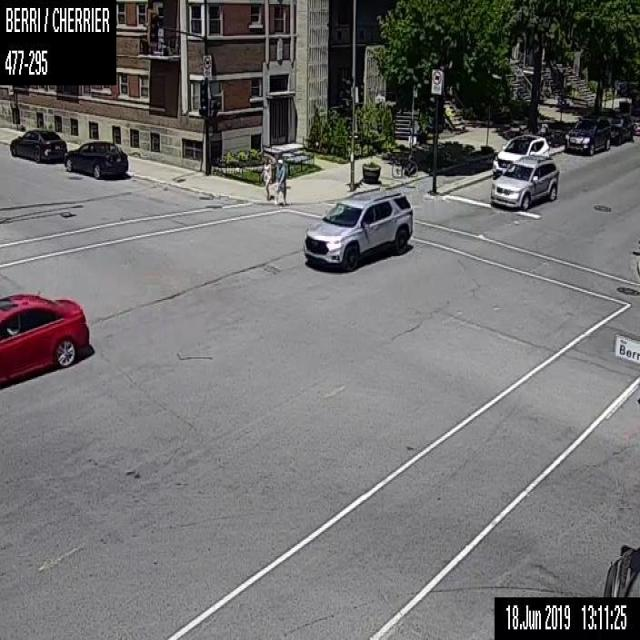pedestrian: (273, 157, 286, 205), (260, 156, 271, 201)
vehicle: (303, 188, 412, 270), (0, 291, 90, 384), (490, 153, 559, 209), (64, 140, 128, 178), (601, 541, 639, 596), (8, 127, 67, 162), (564, 117, 609, 154), (494, 134, 548, 162), (609, 115, 632, 145), (632, 115, 639, 134)
